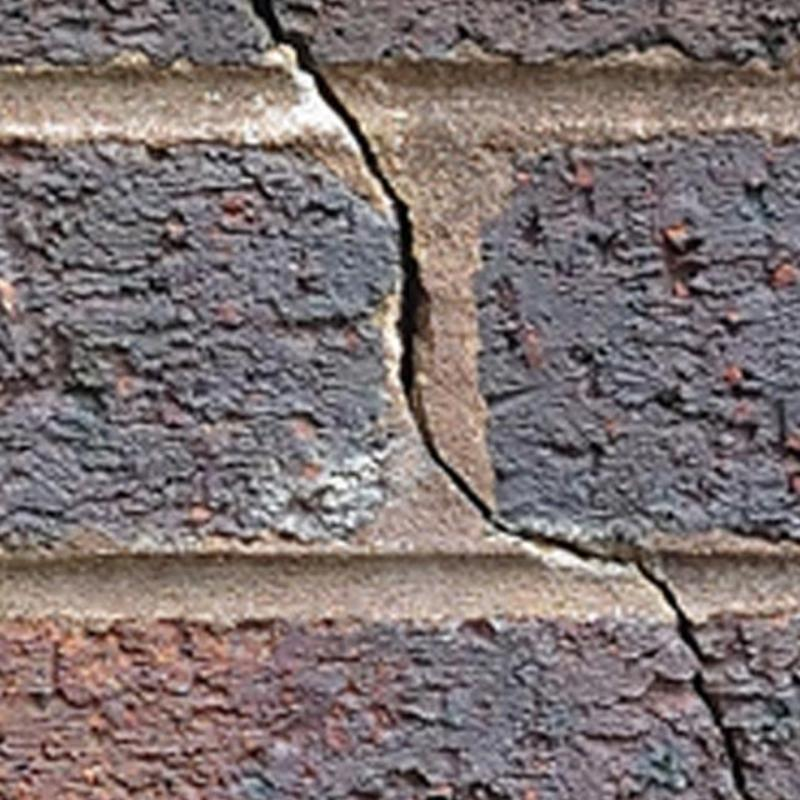crack: (412, 405, 700, 655), (252, 0, 425, 404), (694, 672, 754, 800)
